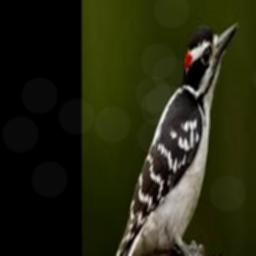Woodpecker: (111, 20, 238, 256)
